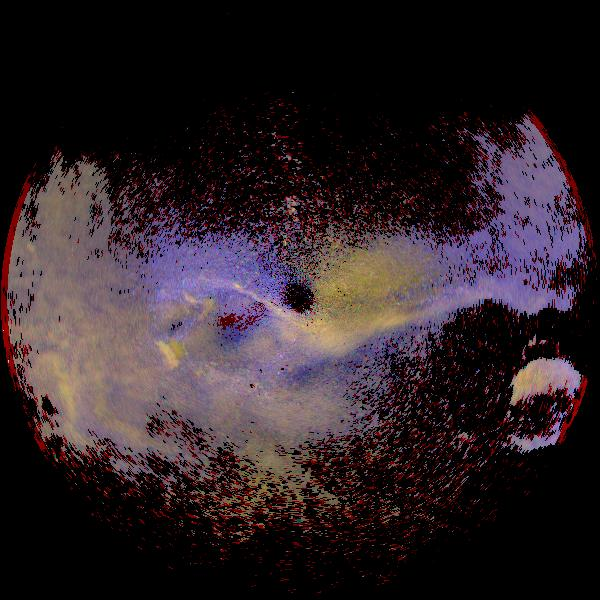roost: (123, 326, 198, 401)
